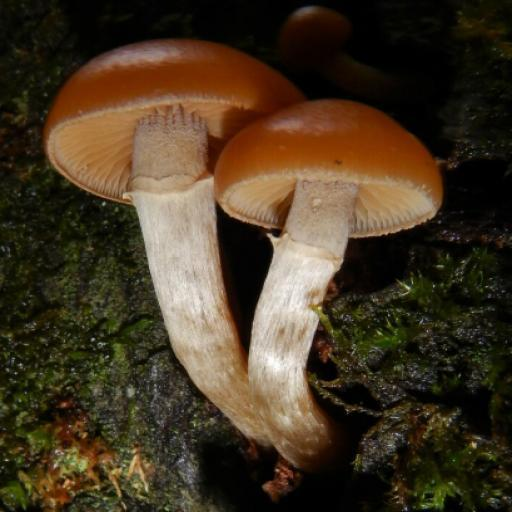mushroom: (35, 27, 455, 392)
